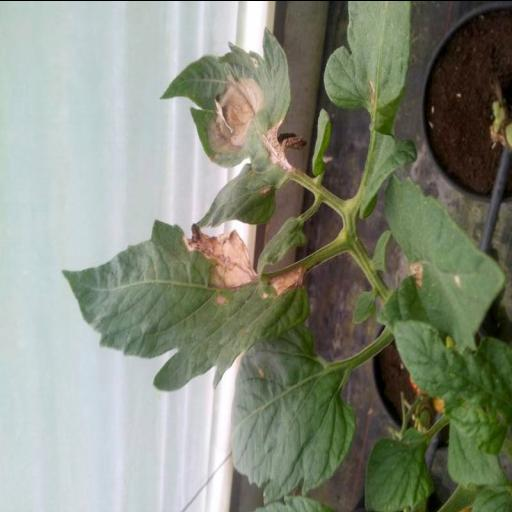disease_tomato: (63, 212, 307, 390), (158, 27, 294, 174)
